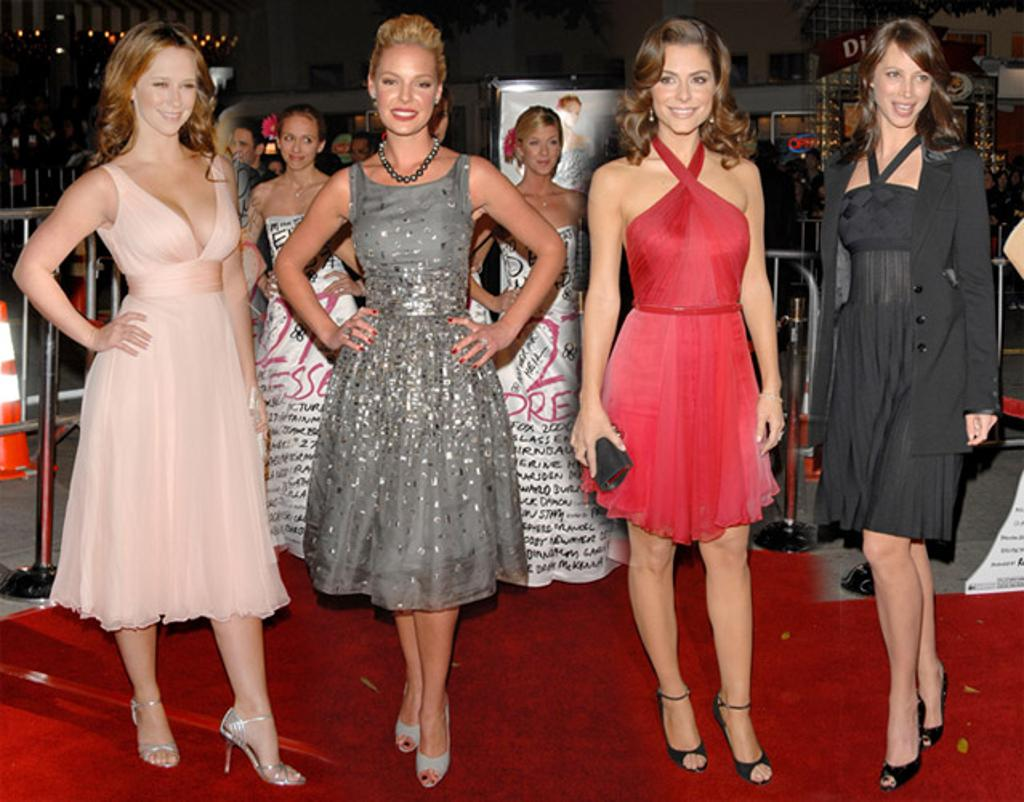face: (373, 52, 438, 132), (652, 50, 715, 132), (134, 54, 195, 134), (876, 51, 929, 125), (521, 126, 559, 172), (281, 121, 318, 167), (229, 133, 254, 165), (353, 141, 369, 166), (335, 142, 351, 164), (563, 103, 579, 125), (806, 155, 816, 168), (982, 176, 991, 187), (999, 174, 1006, 186), (1012, 172, 1019, 182)
